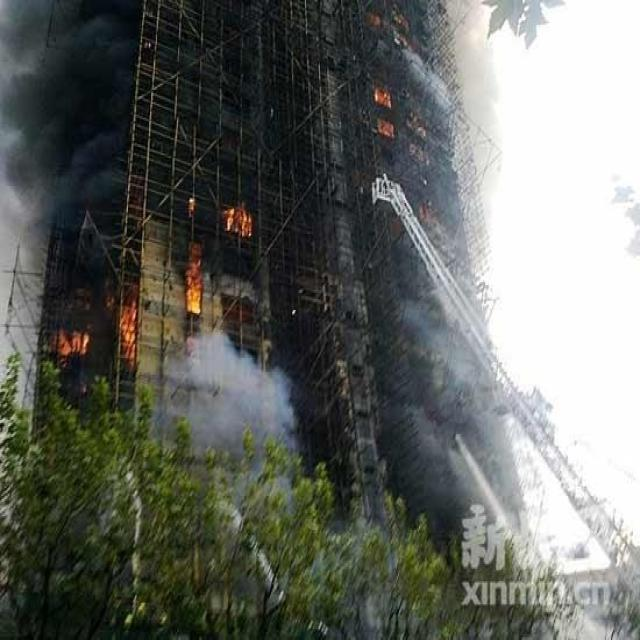Smoke: (367, 0, 561, 537), (0, 0, 142, 426), (128, 290, 320, 602)
